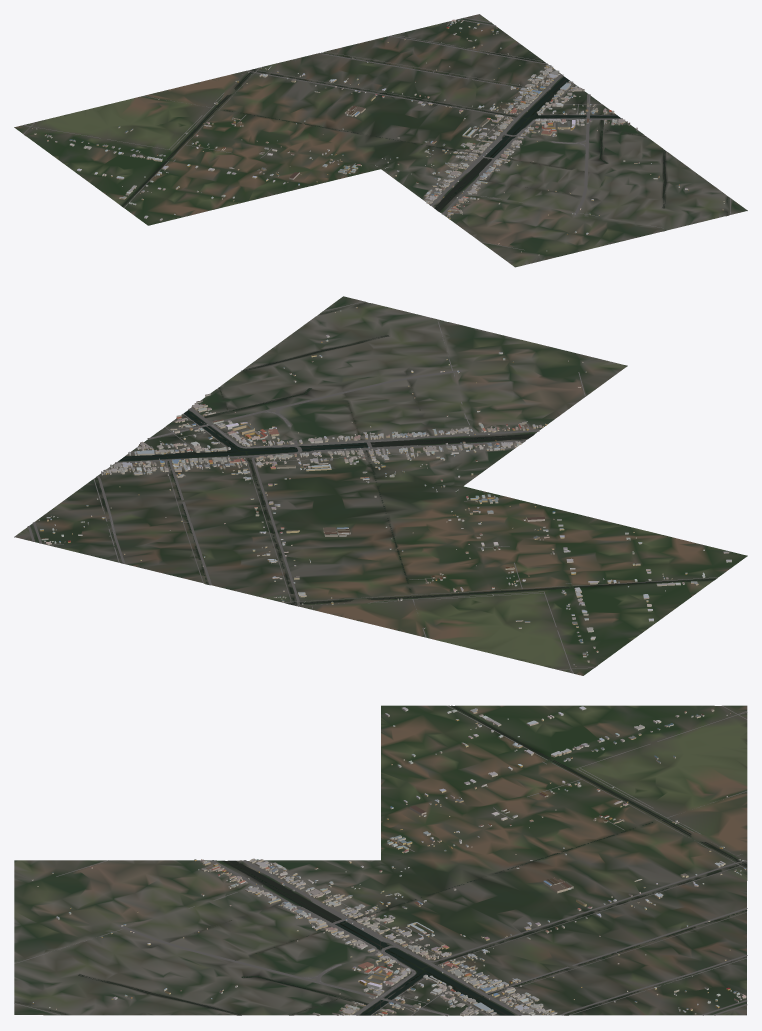
3 renders of one model, top to bottom at view 1: azimuth 30°, elevation 25°; view 2: azimuth 150°, elevation 25°; view 3: azimuth 270°, elevation 25°, orthographic. The views are drawn at different scales.
Visible parts, largest first — view 1: ground, buildings, roads, water; view 2: ground, buildings, roads, water; view 3: ground, buildings, roads, water.
Part boxes in pixels (x1,y1,x2,y2): ground: [14, 14, 747, 267]; buildings: [32, 19, 724, 255]; roads: [22, 17, 730, 250]; water: [122, 52, 727, 212]; ground: [14, 296, 747, 675]; buildings: [39, 307, 731, 666]; roads: [27, 301, 717, 673]; water: [96, 303, 715, 604]; ground: [14, 705, 747, 1015]; buildings: [31, 706, 746, 1016]; roads: [14, 705, 747, 1016]; water: [19, 705, 746, 1015].
Size of the model in its own units: 2809 by 17.32 by 2806.
